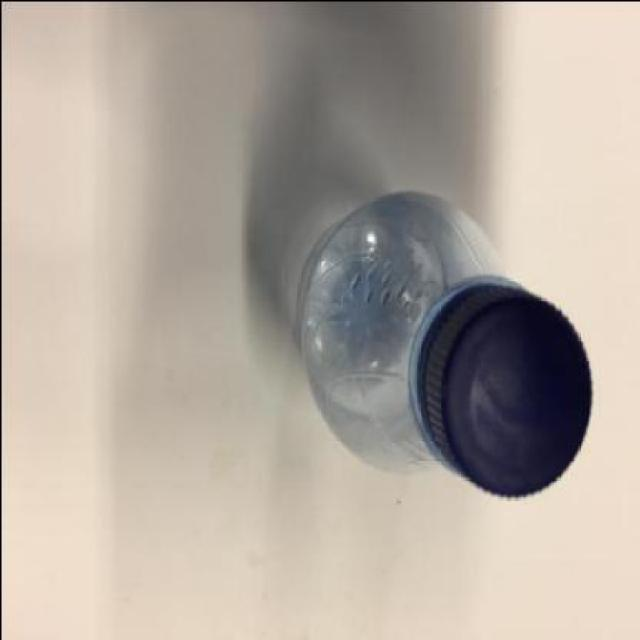PLASTIC: (294, 192, 589, 500), (414, 285, 589, 503)
